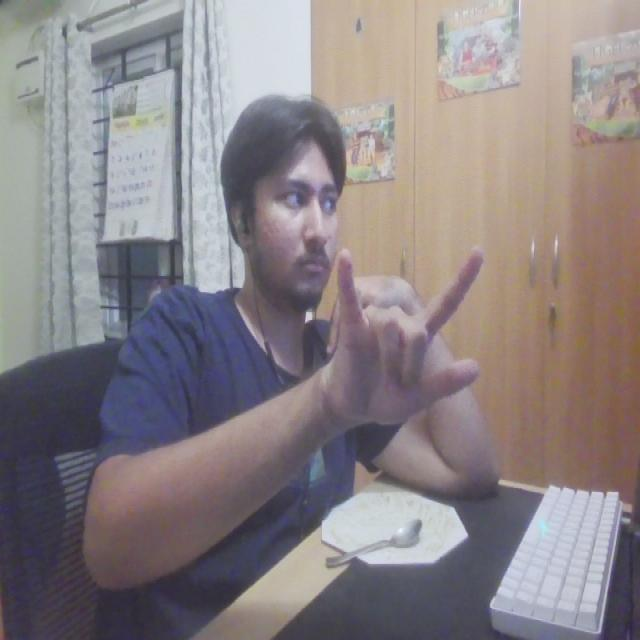iloveyou: (329, 246, 492, 439)
